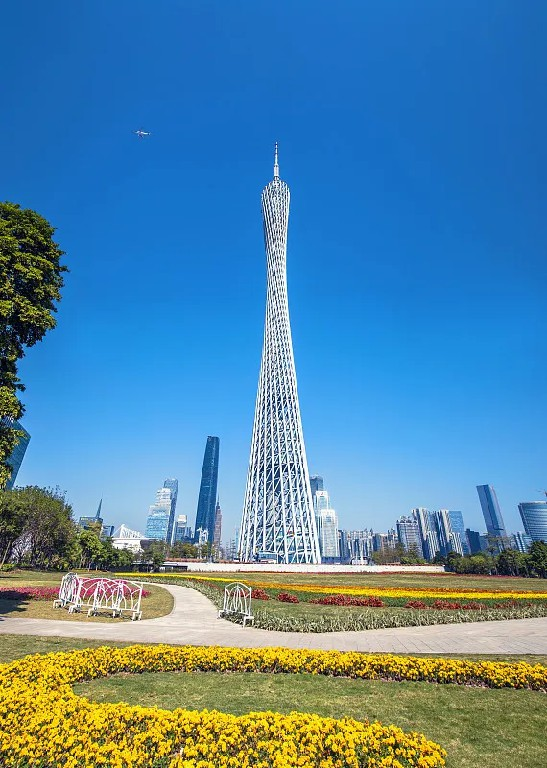Canton: (238, 141, 323, 565)
